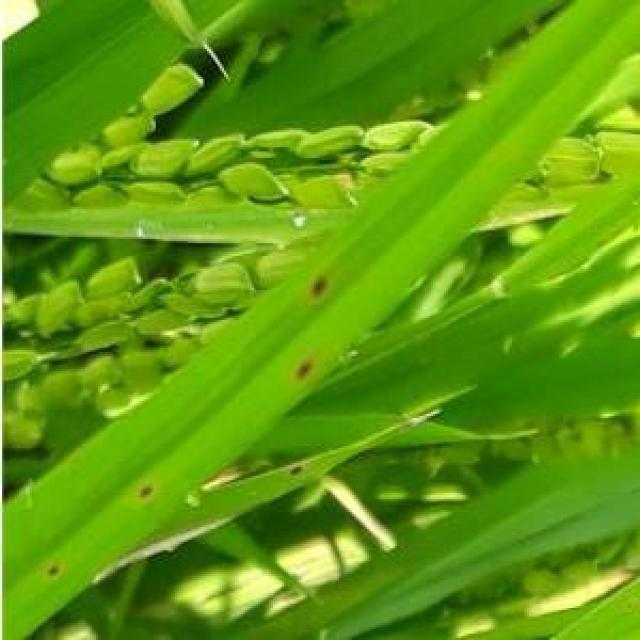brownspots: (301, 273, 352, 299), (34, 554, 75, 582), (286, 354, 324, 384), (126, 478, 173, 501), (282, 463, 316, 480)
